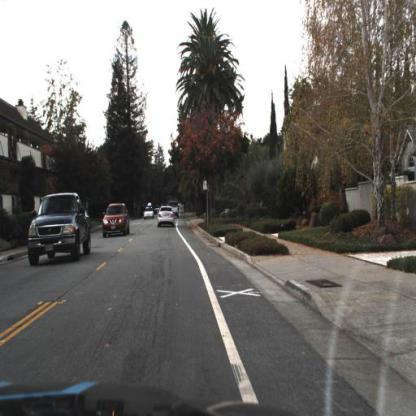car: (27, 189, 93, 267), (102, 202, 131, 242), (157, 204, 177, 230), (142, 202, 157, 223), (168, 200, 182, 221)
